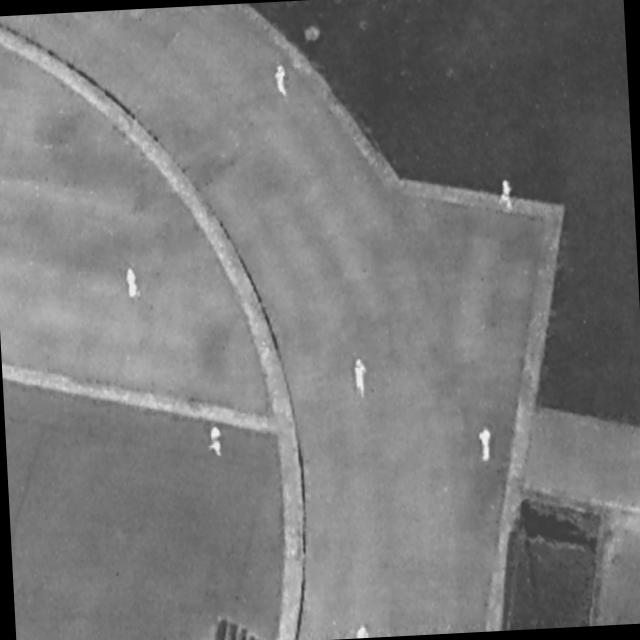person: (352, 358, 370, 401), (273, 63, 292, 101), (124, 269, 142, 302), (208, 424, 224, 460), (478, 426, 494, 462), (500, 178, 515, 214), (355, 622, 372, 638)
